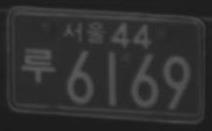1: (97, 50, 126, 106)
4: (109, 19, 132, 49), (132, 22, 153, 50)
6: (129, 51, 160, 110), (65, 48, 96, 106)
9: (160, 54, 192, 111)
루: (19, 47, 56, 84)
서울_O: (62, 19, 108, 45)
